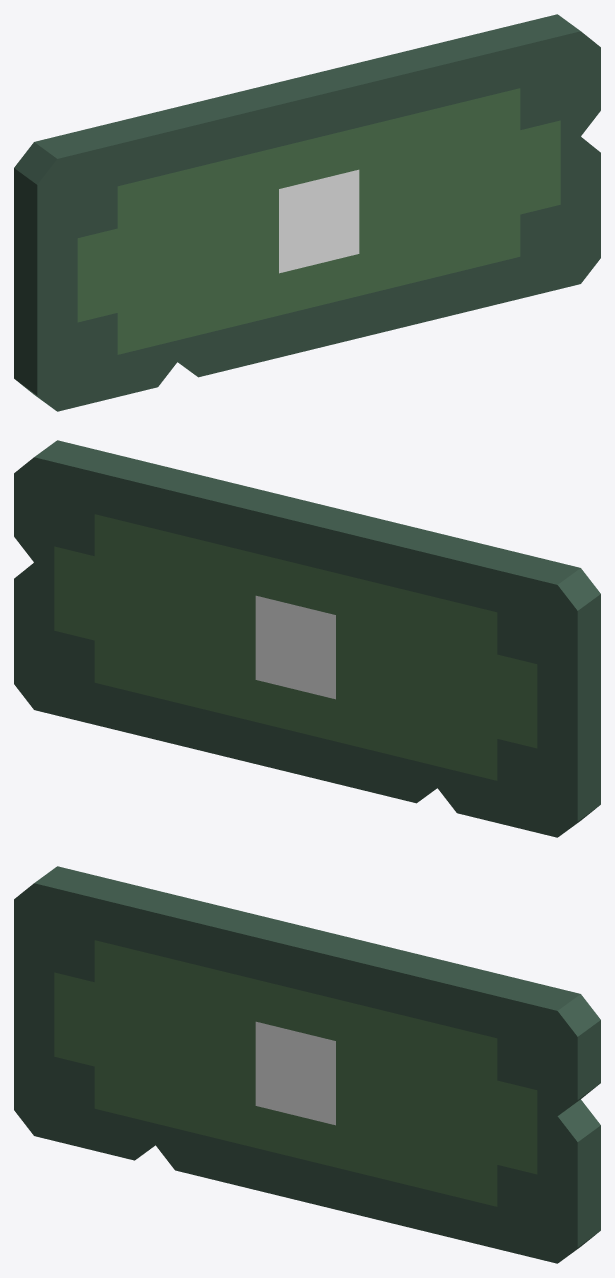
File: bill.glb
The picture shows the model from 3 angles, top to bottom: view 1: azimuth 30°, elevation 25°; view 2: azimuth 150°, elevation 25°; view 3: azimuth 330°, elevation 25°; orthographic projection.
Visible parts, largest first — view 1: generated(Clone); view 2: generated(Clone); view 3: generated(Clone).
Boxes of the visible parts, x1,y1,x2,y2 form: generated(Clone): (14, 14, 600, 411); generated(Clone): (14, 440, 600, 837); generated(Clone): (14, 866, 600, 1263).
Size of the model in its own units: 7 by 3 by 0.5.
Materials: 1 (1 with a texture image).
